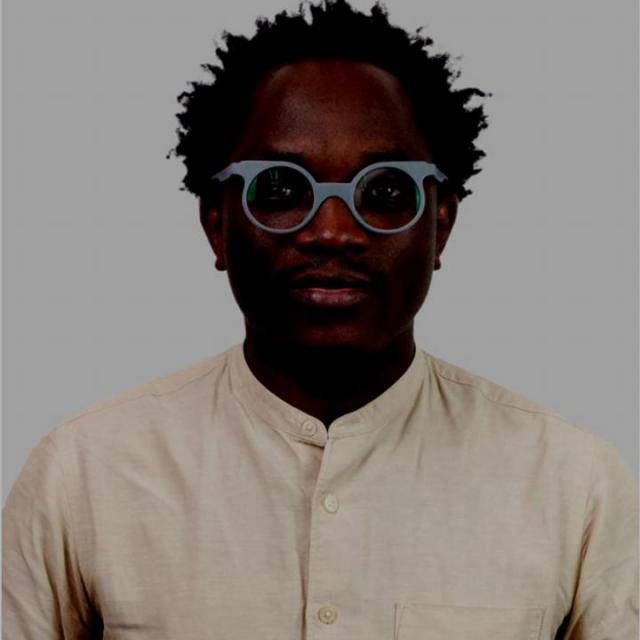live: (234, 81, 428, 366)
